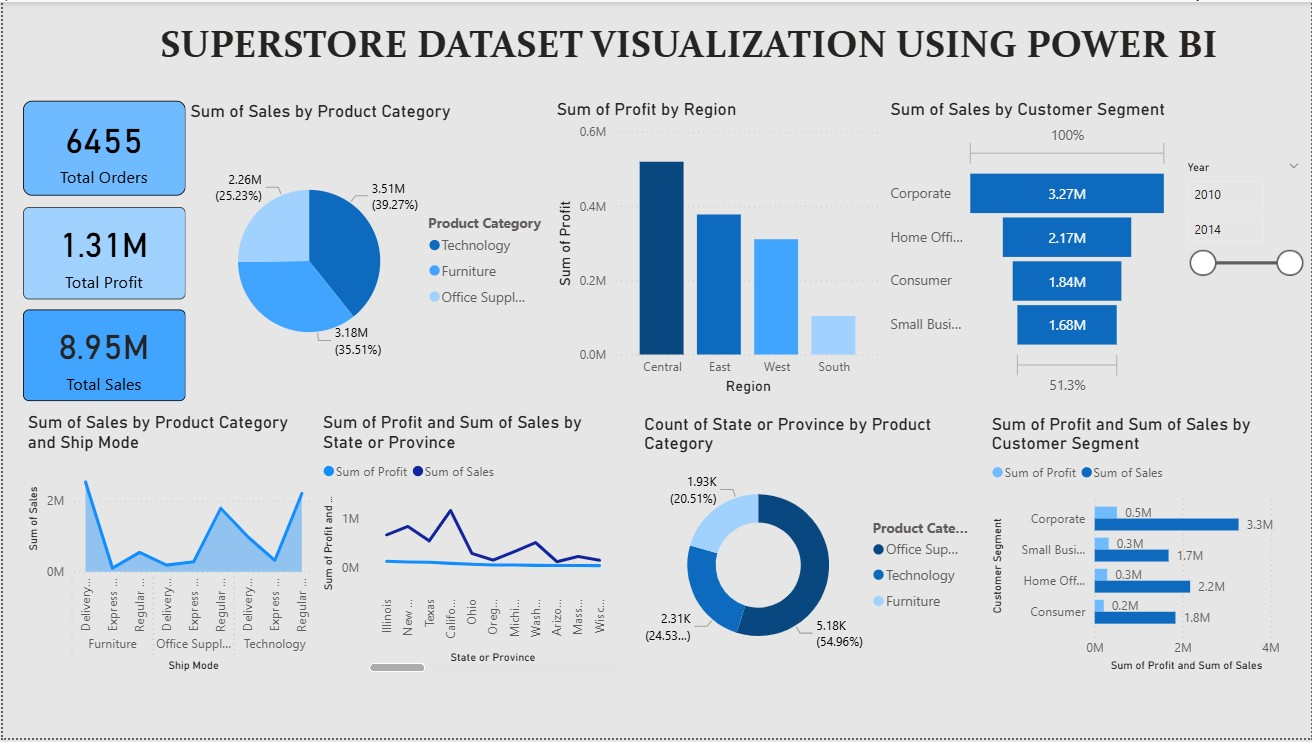

This screenshot's page, from the dashboard's own definition file:
{"tool":"powerbi","page":{"name":"Page 1","canvas":[1280,720],"ordinal":0},"visuals":[{"type":"card","fields":{"Values":["Orders.Total Orders"]},"box":[19.6,96.6,159,92.9],"z":0},{"type":"card","fields":{"Values":["Orders.Total Profit"]},"box":[19.6,200.5,159,90.5],"z":1000},{"type":"card","fields":{"Values":["Orders.Total Sales"]},"box":[19.6,300.8,159,89.3],"z":2000},{"type":"pieChart","fields":{"Category":["Orders.Product Category"],"Y":["Sum(Orders.Sales)"]},"box":[178.5,96.6,358.3,294.7],"z":3000},{"type":"donutChart","fields":{"Y":["CountNonNull(Orders.State or Province)"],"Category":["Orders.Product Category"]},"box":[622.4,402.3,330.2,259.2],"z":4000},{"type":"lineChart","fields":{"Y":["Sum(Orders.Profit)","Sum(Orders.Sales)"],"Category":["Orders.State or Province"]},"box":[308.2,401.1,297.1,259.2],"z":5000},{"type":"lineStackedColumnComboChart","fields":{"Category":["Orders.Region"],"Y":["Sum(Orders.Profit)"]},"box":[536.8,94.2,326.5,294.7],"z":6000},{"type":"clusteredBarChart","fields":{"Y":["Sum(Orders.Profit)","Sum(Orders.Sales)"],"Category":["Orders.Customer Segment"]},"box":[962.4,402.3,299.6,258],"z":7000},{"type":"funnel","fields":{"Category":["Orders.Customer Segment"],"Y":["Sum(Orders.Sales)"]},"box":[863.3,94.2,282.5,295.9],"z":8000},{"type":"textbox","box":[35.5,8.6,1226.5,86.8],"z":9000},{"type":"areaChart","fields":{"Y":["Sum(Orders.Sales)"],"Category":["Orders.Product Category","Orders.Ship Mode"]},"box":[19.6,401.1,288.6,259.2],"z":10000},{"type":"slicer","fields":{"Values":["Orders.Ship Date.Variation.Date Hierarchy.Year"]},"box":[1145.8,150.4,134.5,150.4],"z":11000},{"type":"actionButton","box":[0,0,100,40],"z":12000}]}

Visuals, with their boxes in screenshot pixels (x1, y1, x2, y2), scaled from the page's 1280x720 canvas onto the 1312x742 screenshot:
card - Orders.Total Orders: [x1=20, y1=100, x2=183, y2=195]
card - Orders.Total Profit: [x1=20, y1=207, x2=183, y2=300]
card - Orders.Total Sales: [x1=20, y1=310, x2=183, y2=402]
pieChart - Orders.Product Category x Sum(Orders.Sales): [x1=183, y1=100, x2=550, y2=403]
donutChart - CountNonNull(Orders.State or Province) x Orders.Product Category: [x1=638, y1=415, x2=976, y2=682]
lineChart - Sum(Orders.Profit) x Sum(Orders.Sales): [x1=316, y1=413, x2=620, y2=680]
lineStackedColumnComboChart - Orders.Region x Sum(Orders.Profit): [x1=550, y1=97, x2=885, y2=401]
clusteredBarChart - Sum(Orders.Profit) x Sum(Orders.Sales): [x1=986, y1=415, x2=1294, y2=680]
funnel - Orders.Customer Segment x Sum(Orders.Sales): [x1=885, y1=97, x2=1174, y2=402]
textbox: [x1=36, y1=9, x2=1294, y2=98]
areaChart - Sum(Orders.Sales) x Orders.Product Category: [x1=20, y1=413, x2=316, y2=680]
slicer - Orders.Ship Date.Variation.Date Hierarchy.Year: [x1=1174, y1=155, x2=1311, y2=310]
actionButton: [x1=0, y1=0, x2=102, y2=41]
